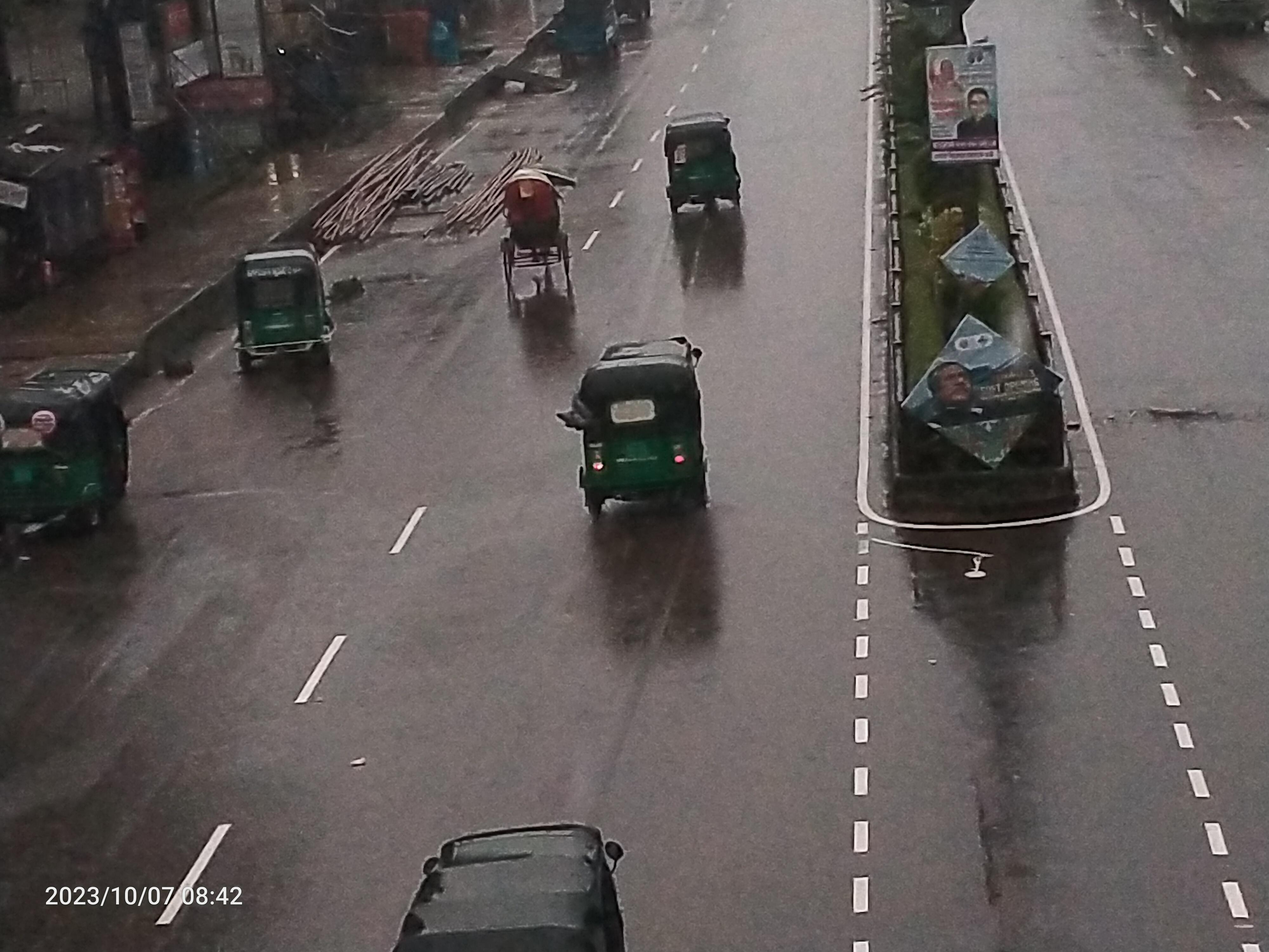Car: (468, 137, 595, 325)
Truck: (532, 0, 651, 86)
